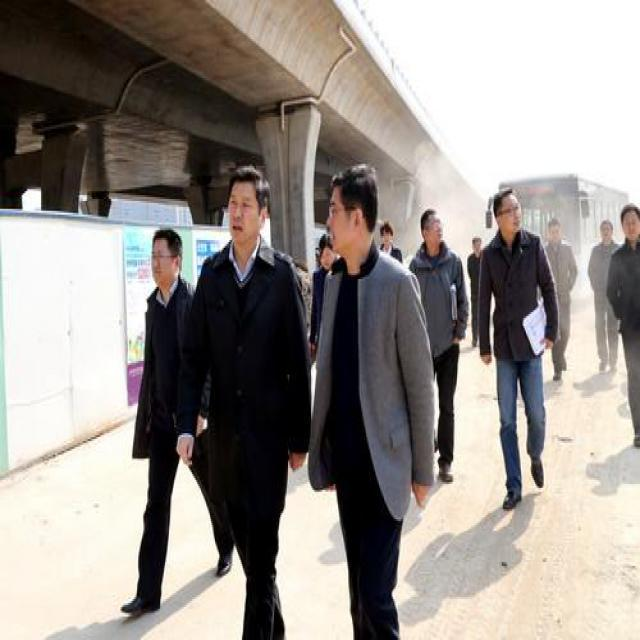head: (329, 159, 377, 266), (221, 163, 270, 253), (147, 224, 185, 294), (488, 180, 524, 243), (420, 200, 447, 253), (316, 230, 338, 273), (621, 200, 640, 249), (547, 210, 566, 243), (599, 214, 618, 247)
person: (307, 156, 443, 625), (196, 160, 316, 624), (116, 224, 203, 618), (474, 185, 562, 516), (397, 201, 477, 488), (604, 195, 640, 466), (540, 214, 584, 394)
